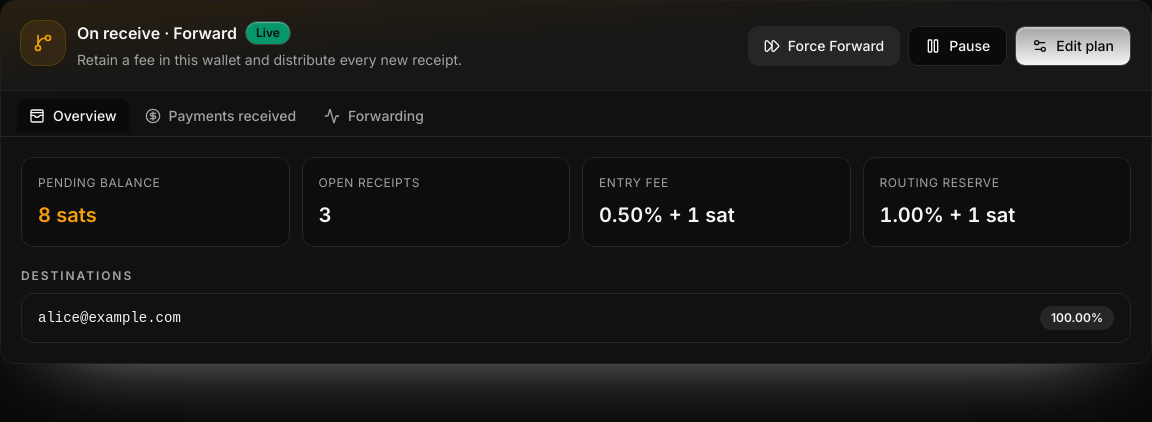
RemoteWalletForwardingPanel › forces all pending receipts immediately
Click the button "Force Forward" at (824, 46), box x1=748 y1=26 x2=900 y2=66
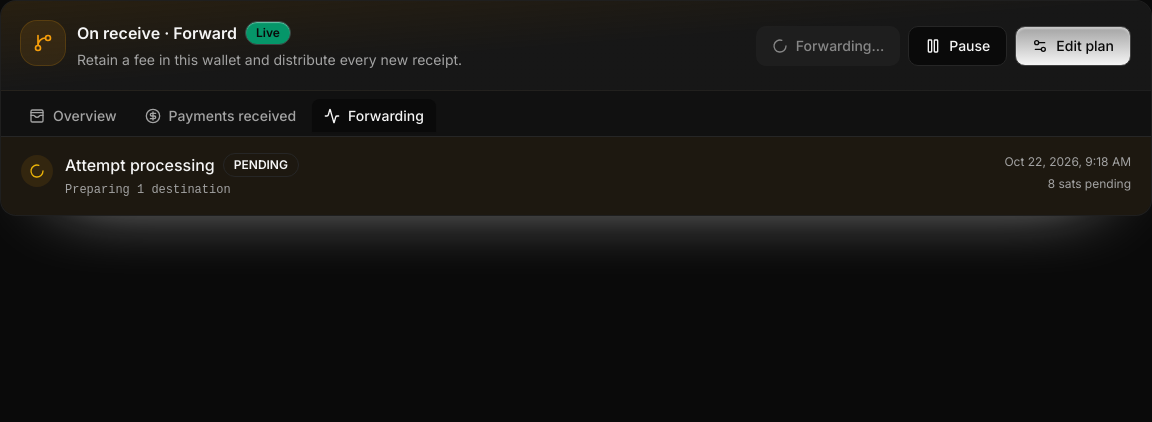
expect the text "Attempt processing" is shown: met, box x1=65 y1=153 x2=215 y2=177
expect the message named "Forwarding attempt in progress" is shown: met, box x1=21 y1=155 x2=53 y2=187
